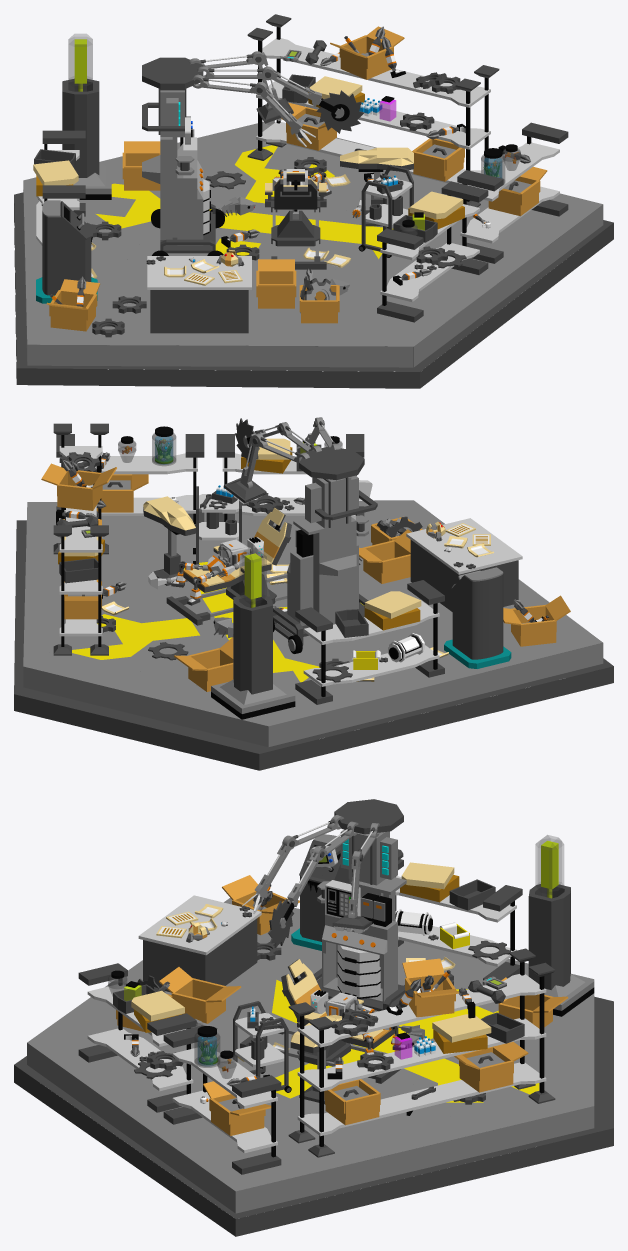
The model's file is Robotics laboratory.glb.
The picture shows the model from 3 angles, top to bottom: view 1: azimuth 30°, elevation 25°; view 2: azimuth 150°, elevation 25°; view 3: azimuth 270°, elevation 25°; orthographic projection. The views are drawn at different scales.
Parts seen in each view (by area): view 1: wedge (×18), box (×38), cylinder, halfCylinder; view 2: wedge (×22), box (×31), halfCylinder, truncatedPyramid4 (×2), annulus; view 3: wedge (×16), box (×34), annulus.
Part boxes in pixels (left/top/right/bottom): wedge (×18): left=14, top=91, right=613, bottom=388; box (×38): left=23, top=39, right=568, bottom=333; cylinder: left=322, top=95, right=358, bottom=128; halfCylinder: left=42, top=212, right=48, bottom=295; wedge (×22): left=14, top=500, right=613, bottom=770; box (×31): left=14, top=434, right=522, bottom=770; halfCylinder: left=471, top=574, right=503, bottom=659; truncatedPyramid4 (×2): left=220, top=554, right=356, bottom=704; annulus: left=152, top=434, right=175, bottom=464; wedge (×16): left=14, top=897, right=613, bottom=1236; box (×34): left=78, top=799, right=613, bottom=1174; annulus: left=194, top=1034, right=219, bottom=1066.
Bounding box in the file's own units: 112 × 39 × 92.
